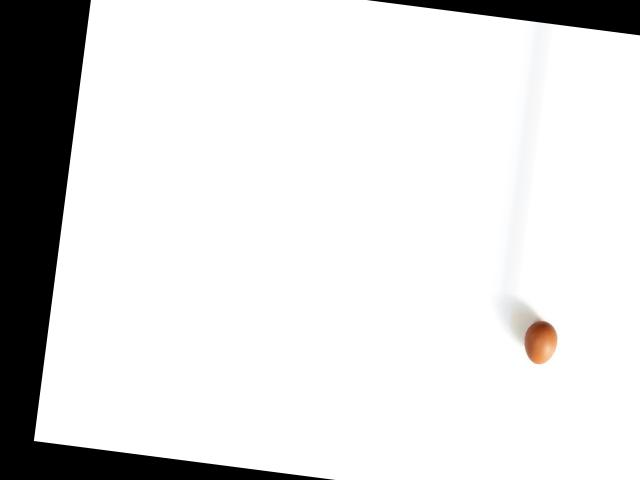egg: (522, 318, 559, 366)
